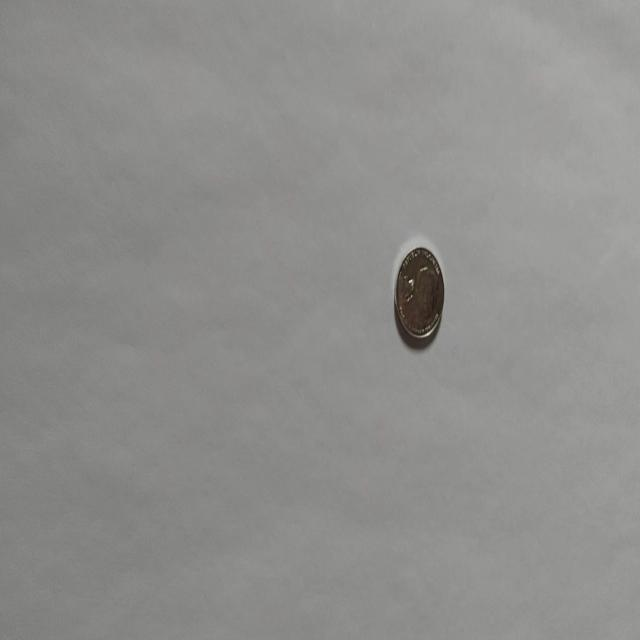seratus rupiah: (394, 244, 444, 340)
